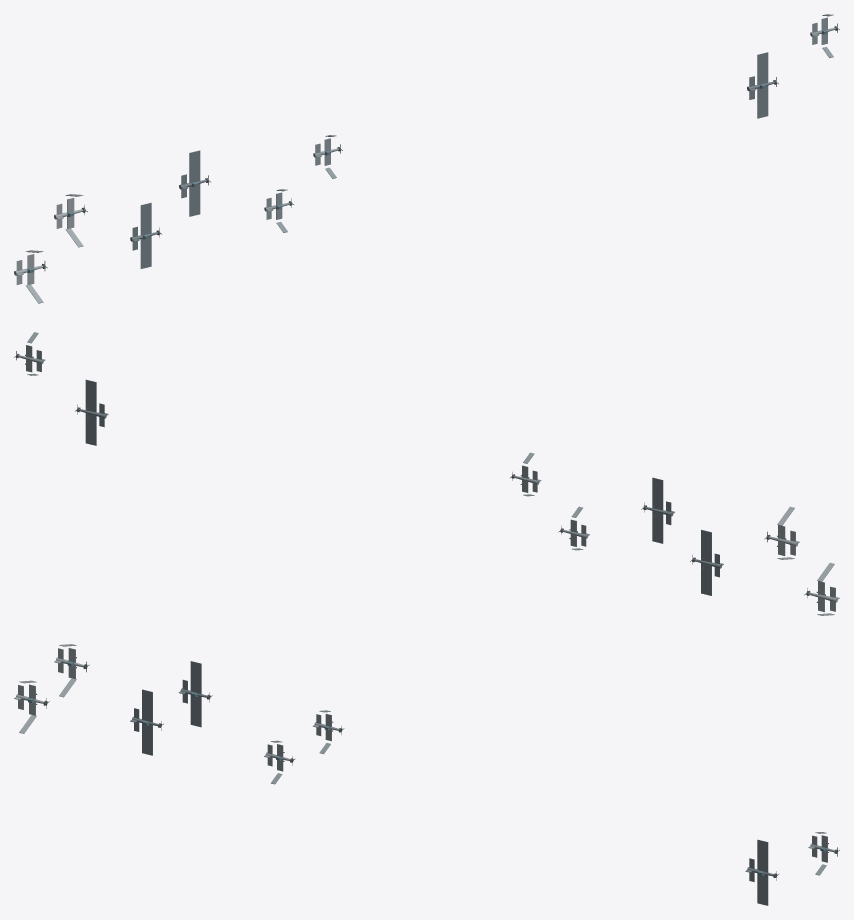
The model's file is CV6_DeckAircraft.glb.
3 views of the same model, one above another, from view 1: azimuth 30°, elevation 25°; view 2: azimuth 150°, elevation 25°; view 3: azimuth 330°, elevation 25° (orthographic).
Parts seen in each view (by area): view 1: CV6_aircraft_hazegray_dark, CV6_aircraft_hazegray, CV6_aircraft_hazegray_light; view 2: CV6_aircraft_hazegray_dark, CV6_aircraft_hazegray, CV6_aircraft_hazegray_light; view 3: CV6_aircraft_hazegray_dark, CV6_aircraft_hazegray, CV6_aircraft_hazegray_light.
Boxes of the visible parts, <box> form: CV6_aircraft_hazegray_dark: <box>130,52,774,268</box>; CV6_aircraft_hazegray: <box>264,14,835,232</box>; CV6_aircraft_hazegray_light: <box>14,194,83,303</box>; CV6_aircraft_hazegray_dark: <box>79,379,723,595</box>; CV6_aircraft_hazegray: <box>18,332,589,550</box>; CV6_aircraft_hazegray_light: <box>768,506,839,615</box>; CV6_aircraft_hazegray_dark: <box>130,661,773,905</box>; CV6_aircraft_hazegray: <box>264,710,834,875</box>; CV6_aircraft_hazegray_light: <box>14,644,83,733</box>.
Size of the model in its own units: 185 by 22.42 by 5.35.
